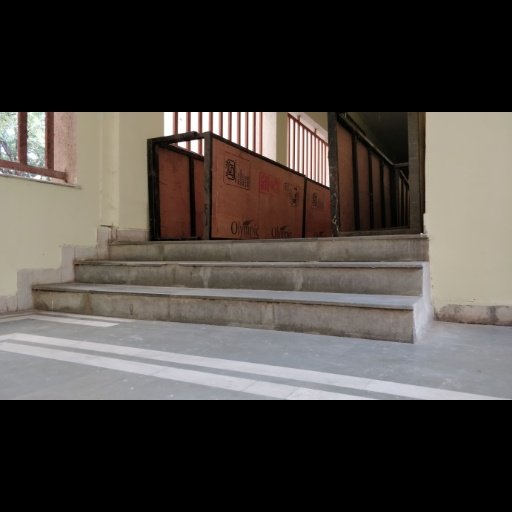Stairs: (34, 235, 433, 343)
